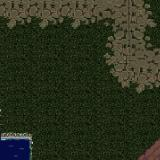Interaction: (0, 123, 39, 143), (27, 143, 39, 160)
Slow: (0, 140, 30, 160)
